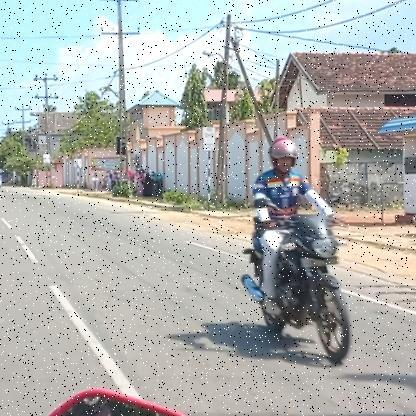motorcycle: (237, 211, 366, 366)
